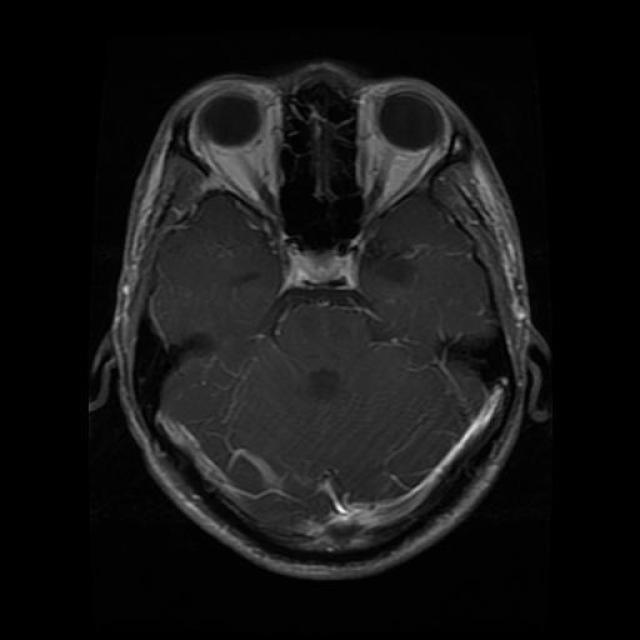glioma: (191, 86, 286, 180)
